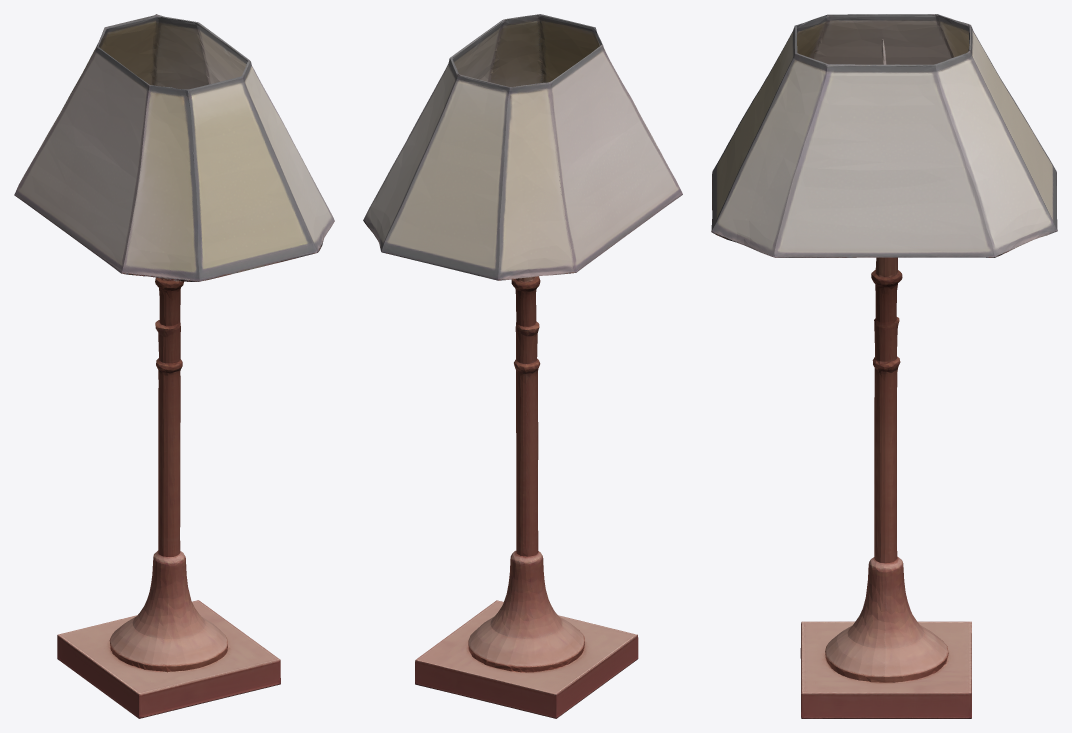
The model's file is ours.glb.
The picture shows the model from 3 angles, left to right: view 1: azimuth 30°, elevation 25°; view 2: azimuth 150°, elevation 25°; view 3: azimuth 270°, elevation 25°; orthographic projection. The views are drawn at different scales.
Parts seen in each view (by area): view 1: world; view 2: world; view 3: world.
Part boxes in pixels (<box>): world: <box>14,14,334,718</box>; world: <box>363,14,682,718</box>; world: <box>711,14,1057,718</box>.
Size of the model in its own units: 0.2967 by 0.8213 by 0.3983.
Materials: 1 (1 with a texture image).
